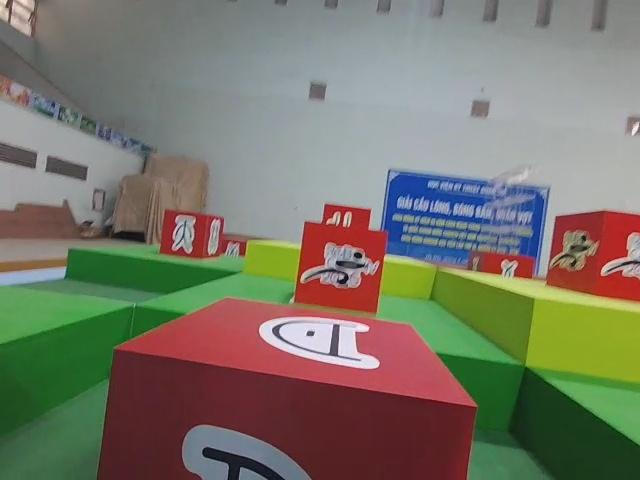R1: (293, 221, 387, 313), (547, 211, 640, 301)
R2 Fake: (159, 207, 225, 265)
R2 Real: (98, 297, 476, 480)
